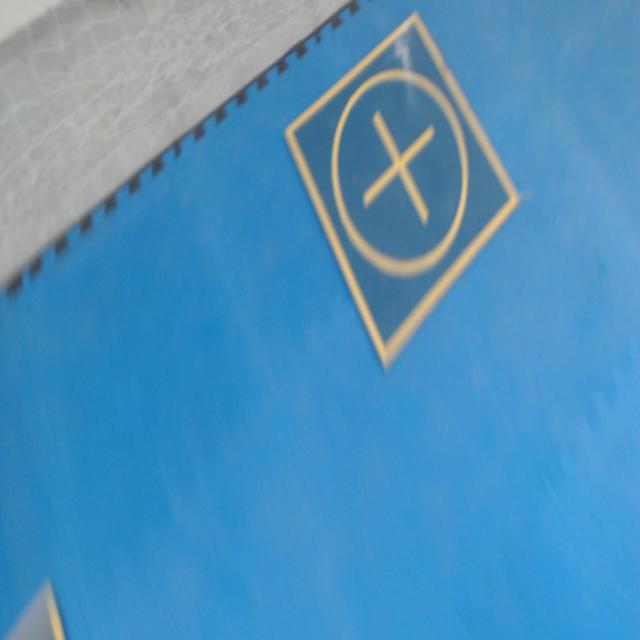base_pouso: (283, 9, 523, 373), (1, 572, 68, 638)
